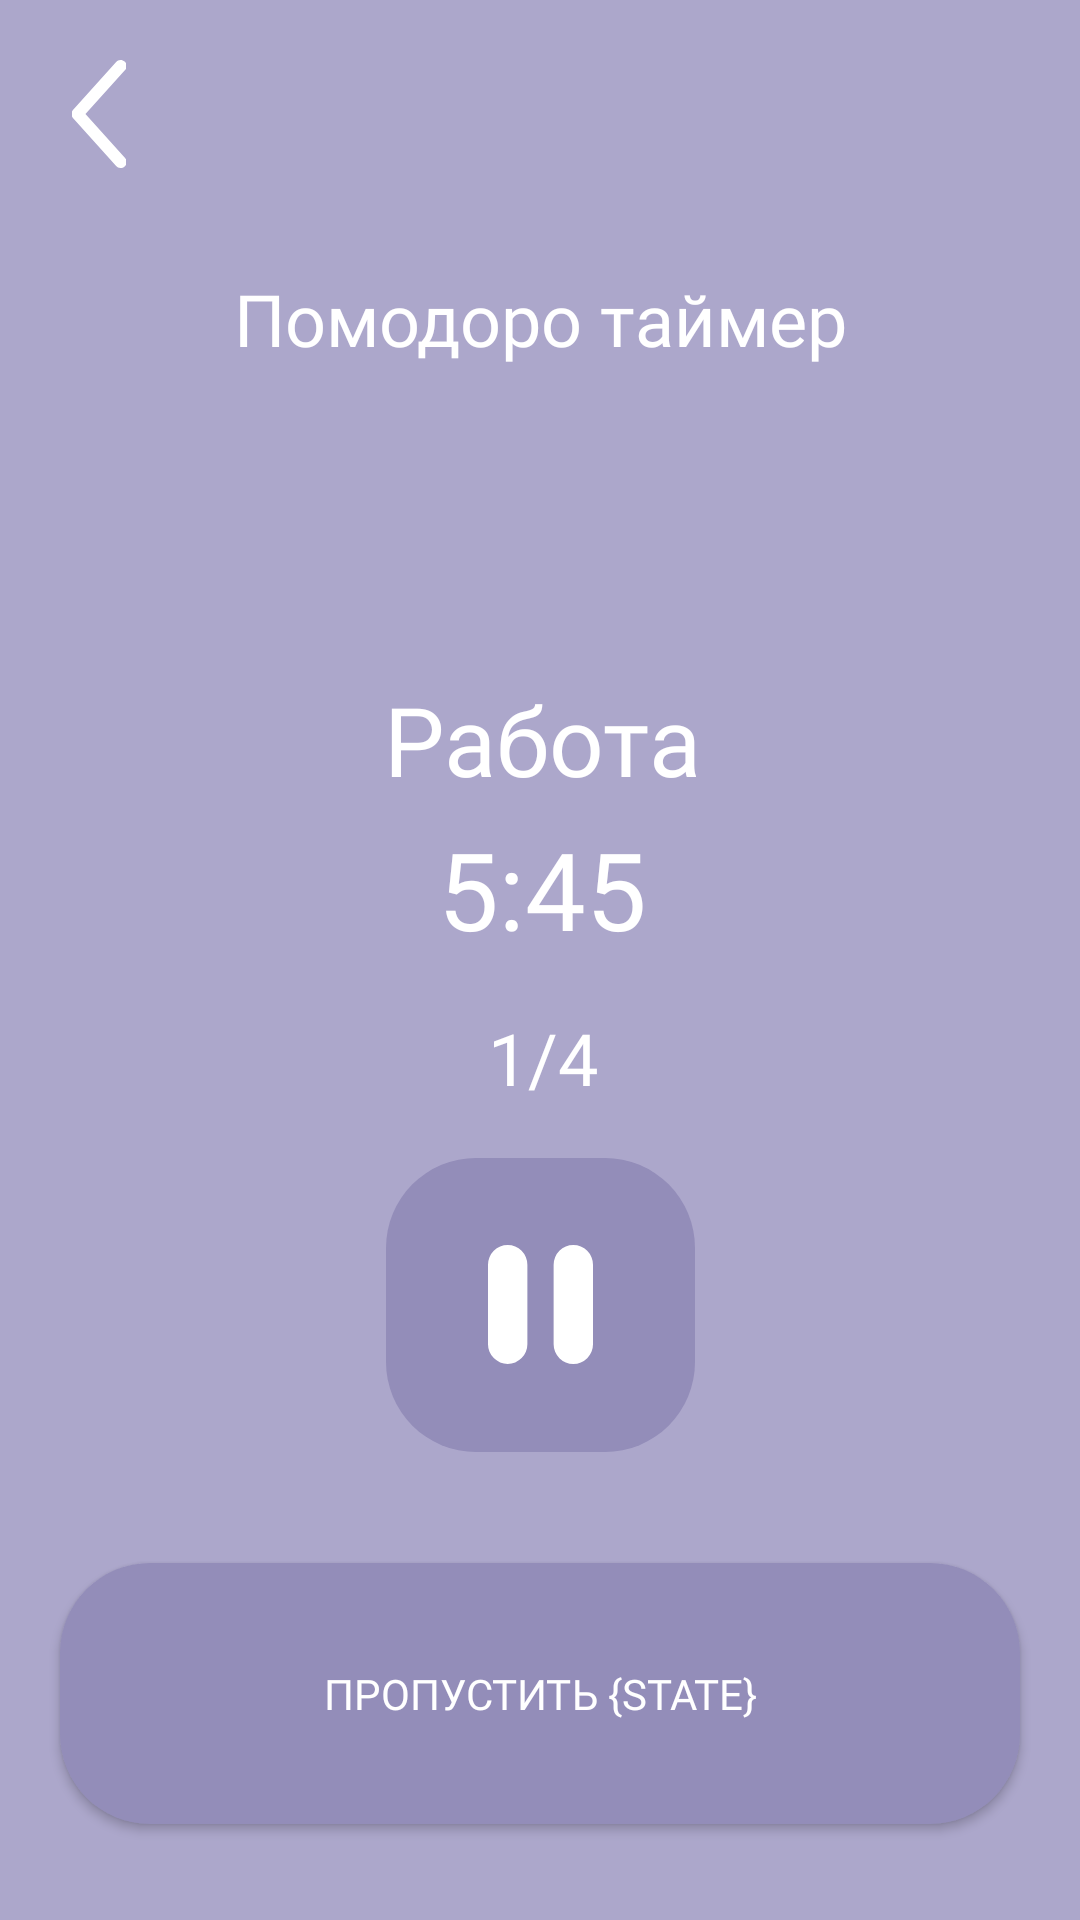

Named icons in this screenshot (1080w x 1920h) and their bounding boxes, (x1, y1, x2, y2):
back arrow: (72, 60, 126, 168)
pause: (386, 1158, 695, 1452)
